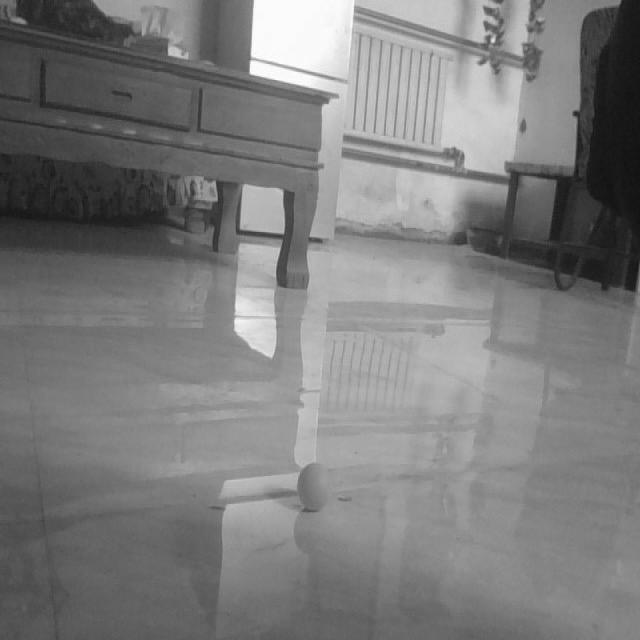ping-pong-ball: (300, 464, 334, 511)
